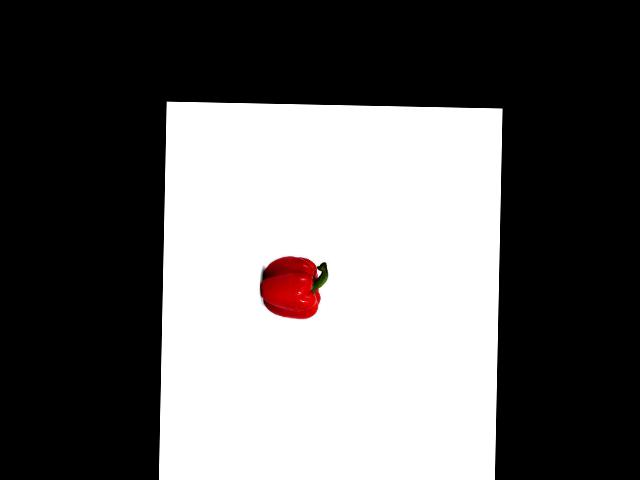bell_pepper: (260, 254, 329, 323)
